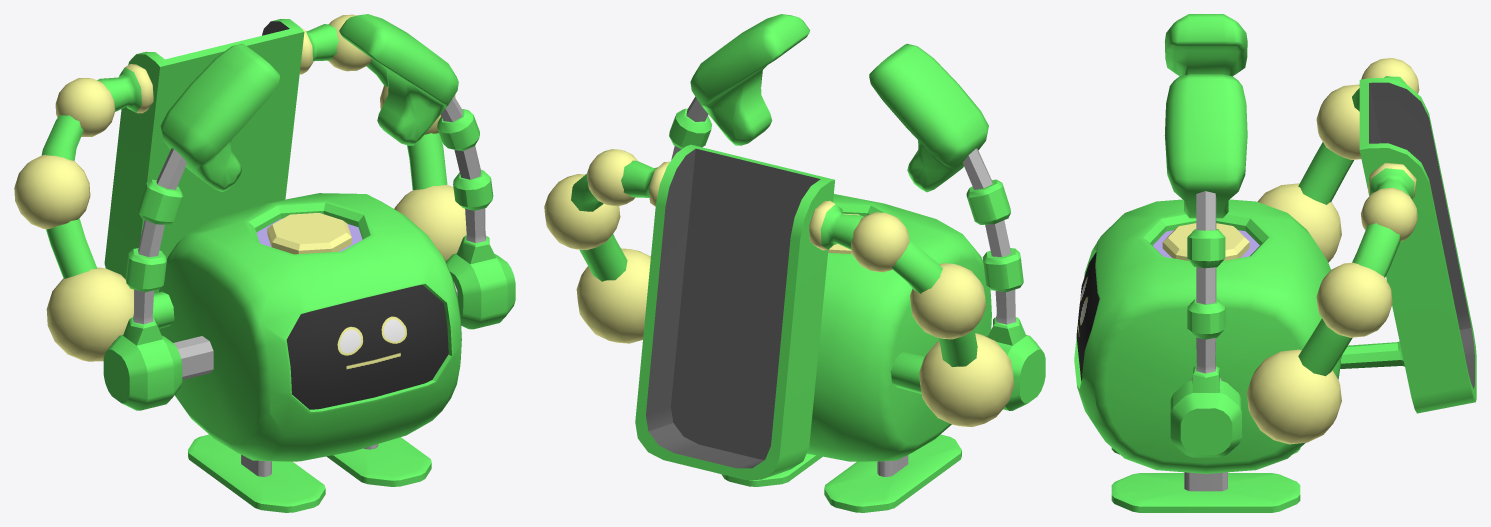
The model's file is Chara_01G.fbx.
3 views of the same model, side by side, from view 1: azimuth 30°, elevation 25°; view 2: azimuth 150°, elevation 25°; view 3: azimuth 270°, elevation 25° (orthographic).
Parts seen in each view (by area): view 1: Face, Case, pCube48 (×2), R_Hand, pCube42 (×2), Tube (×2), L_Hand, R_Leg, pCube41, pCube40 (×2), L_Leg, pCube47; view 2: Case, Face, pCube42 (×2), R_Hand, pCube48 (×2), Tube (×2), L_Hand, pCube41 (×2), R_Leg, pCube40 (×2), L_Leg; view 3: Face, Case, pCube48, L_Hand, pCube42 (×2), L_Leg, pCube41 (×2), Tube (×2), R_Hand, pCube40 (×2), Tail.
Part boxes in pixels (left/top/right/bottom): Face: left=159, top=193, right=461, bottom=461; Case: left=104, top=19, right=304, bottom=292; pCube48 (×2): left=103, top=96, right=515, bottom=410; R_Hand: left=160, top=43, right=279, bottom=192; pCube42 (×2): left=46, top=185, right=466, bottom=361; Tube (×2): left=41, top=24, right=447, bottom=328; L_Hand: left=339, top=14, right=458, bottom=145; R_Leg: left=188, top=434, right=325, bottom=512; pCube41: left=14, top=155, right=90, bottom=229; pCube40 (×2): left=55, top=14, right=371, bottom=136; L_Leg: left=326, top=437, right=431, bottom=486; pCube47: left=173, top=336, right=213, bottom=379; Case: left=635, top=144, right=834, bottom=479; Face: left=806, top=194, right=991, bottom=461; pCube42 (×2): left=576, top=248, right=1014, bottom=426; R_Hand: left=869, top=43, right=988, bottom=192; pCube48 (×2): left=650, top=96, right=1045, bottom=410; Tube (×2): left=571, top=160, right=977, bottom=393; L_Hand: left=690, top=14, right=809, bottom=145; pCube41 (×2): left=544, top=174, right=985, bottom=339; R_Leg: left=824, top=434, right=961, bottom=512; pCube40 (×2): left=587, top=149, right=909, bottom=272; L_Leg: left=721, top=453, right=822, bottom=486; Face: left=1074, top=199, right=1341, bottom=473; Case: left=1359, top=78, right=1476, bottom=413; pCube48: left=1170, top=191, right=1242, bottom=457; L_Hand: left=1164, top=74, right=1247, bottom=218; pCube42 (×2): left=1247, top=183, right=1341, bottom=444; L_Leg: left=1111, top=472, right=1300, bottom=512; pCube41 (×2): left=1316, top=84, right=1392, bottom=337; Tube (×2): left=1298, top=76, right=1416, bottom=376; R_Hand: left=1165, top=14, right=1247, bottom=76; pCube40 (×2): left=1359, top=58, right=1419, bottom=241; Tail: left=1340, top=341, right=1404, bottom=368.
Size of the model in its own units: 208 by 196 by 168.
